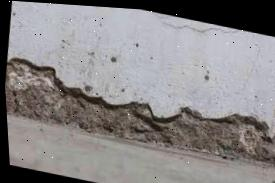spalling: (5, 57, 275, 173)
